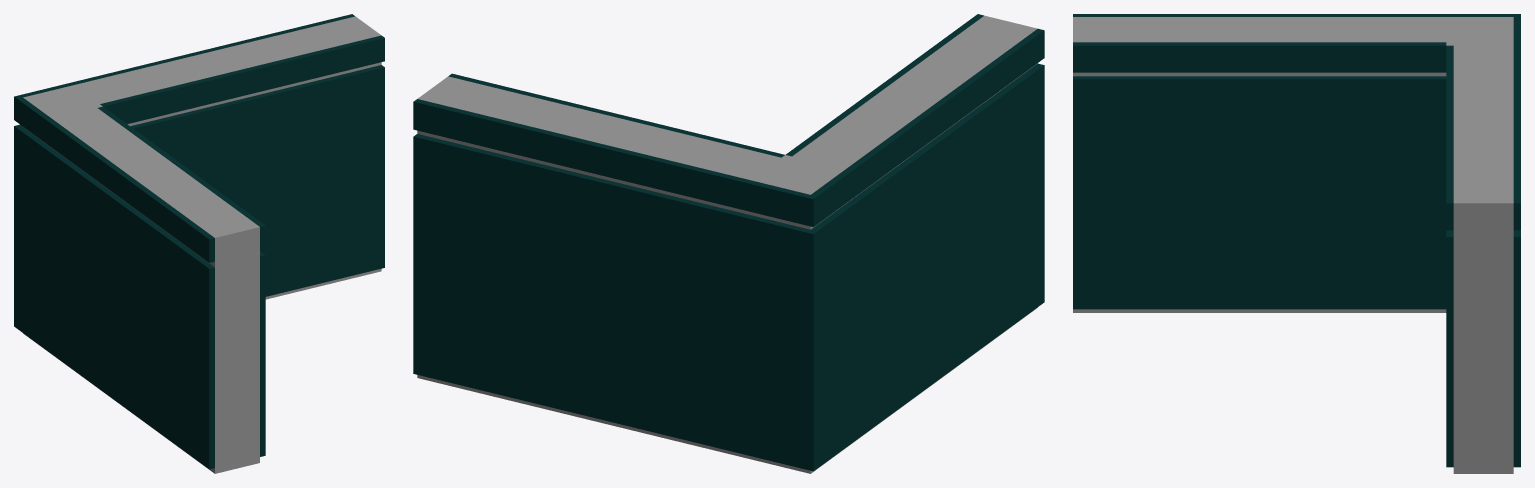
File: Manufacturing Corner 2.obj
3 views of the same model, side by side, from view 1: azimuth 30°, elevation 25°; view 2: azimuth 150°, elevation 25°; view 3: azimuth 270°, elevation 25° (orthographic). The views are drawn at different scales.
Bounding box in the file's own units: 60 × 40 × 60.
Materials: 1 (1 with a texture image).
